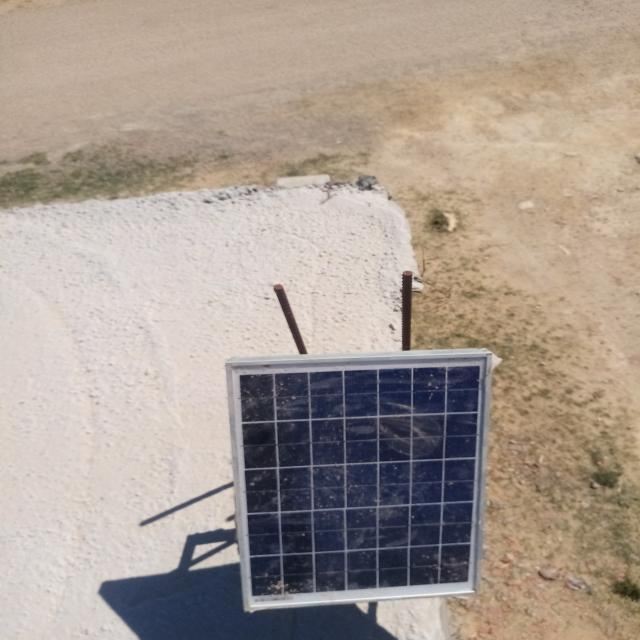faulty: (227, 354, 491, 609)
